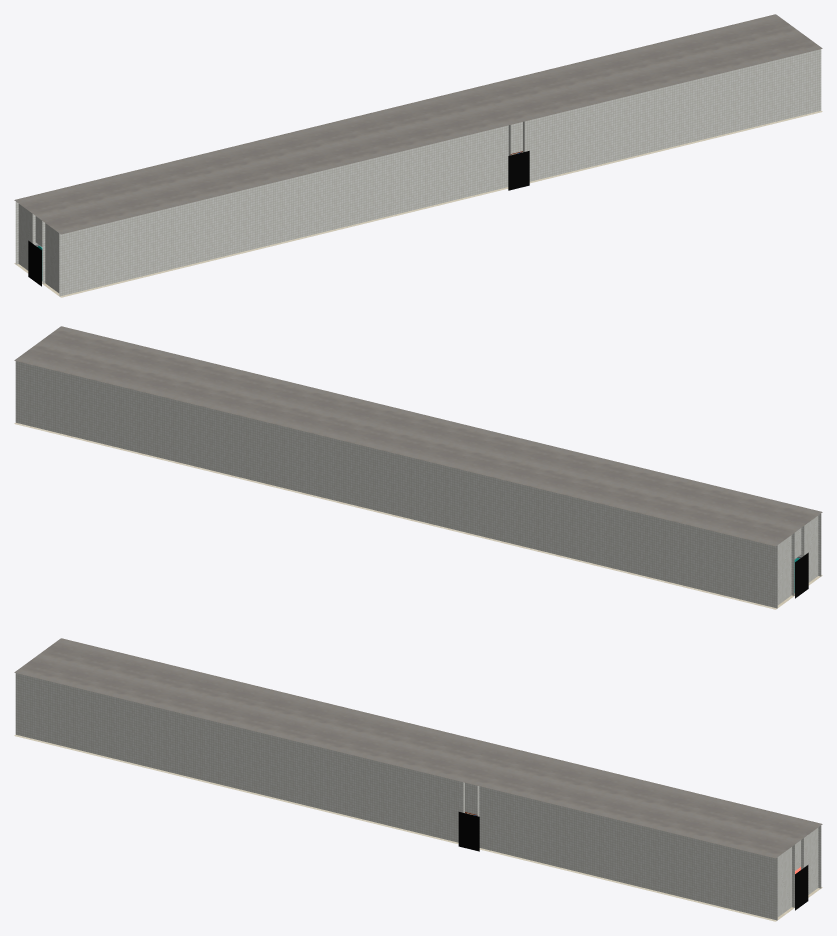
The model's file is rdwe_flooded.glb.
3 renders of one model, top to bottom at view 1: azimuth 30°, elevation 25°; view 2: azimuth 150°, elevation 25°; view 3: azimuth 330°, elevation 25°, orthographic.
Visible parts, largest first — view 1: Tile_Wall.001, Ceiling_White.001, Tile_Floor.001, Void.001; view 2: Tile_Wall.001, Ceiling_White.001, Tile_Floor.001; view 3: Tile_Wall.001, Ceiling_White.001, Tile_Floor.001, Void.001.
Boxes of the visible parts, box(x1,y1,x2,y2) form: Tile_Wall.001: box(15, 49, 821, 296); Ceiling_White.001: box(14, 14, 822, 234); Tile_Floor.001: box(14, 111, 822, 297); Void.001: box(28, 151, 529, 286); Tile_Wall.001: box(15, 361, 821, 608); Ceiling_White.001: box(14, 326, 822, 546); Tile_Floor.001: box(14, 423, 822, 609); Tile_Wall.001: box(15, 673, 821, 920); Ceiling_White.001: box(14, 638, 822, 858); Tile_Floor.001: box(14, 735, 822, 921); Void.001: box(458, 812, 808, 910).
Bounding box in the file's own units: 50.7 × 4.05 × 5.55.
22 materials, 12 textured.
